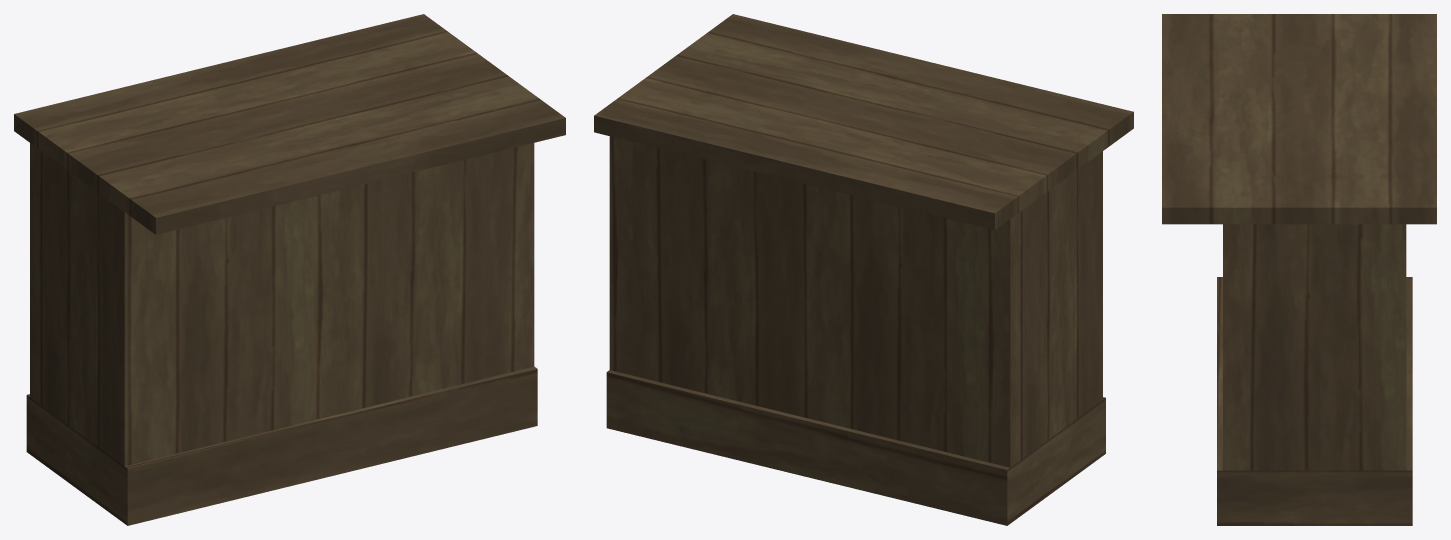
The model's file is counter_M.glb.
3 views of the same model, side by side, from view 1: azimuth 30°, elevation 25°; view 2: azimuth 150°, elevation 25°; view 3: azimuth 270°, elevation 25° (orthographic). The views are drawn at different scales.
Visible parts, largest first — view 1: counter_M; view 2: counter_M; view 3: counter_M.
Part boxes in pixels (<box>): counter_M: <box>14,14,565,525</box>; counter_M: <box>594,14,1133,525</box>; counter_M: <box>1162,14,1436,525</box>.
Size of the model in its own units: 1.5 by 1.15 by 0.9.
1 material, 1 textured.
